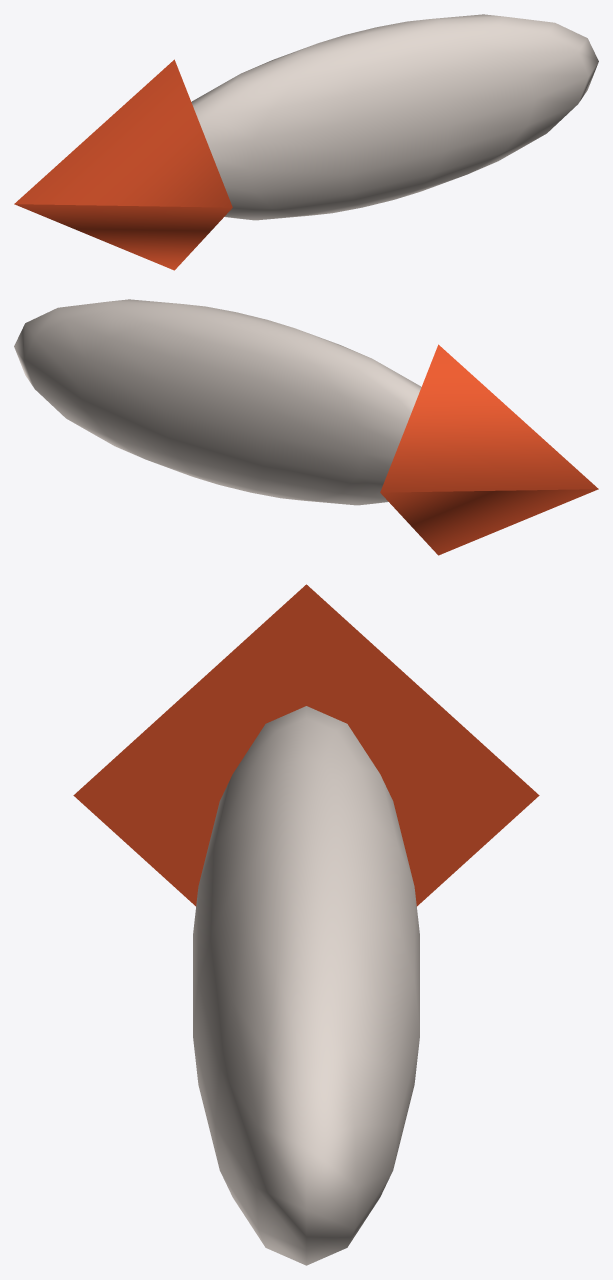
Rendered from fish.glb.
The picture shows the model from 3 angles, top to bottom: view 1: azimuth 30°, elevation 25°; view 2: azimuth 150°, elevation 25°; view 3: azimuth 270°, elevation 25°; orthographic projection. The views are drawn at different scales.
Bounding box in the file's own units: 1.66 × 0.572 × 0.572.
